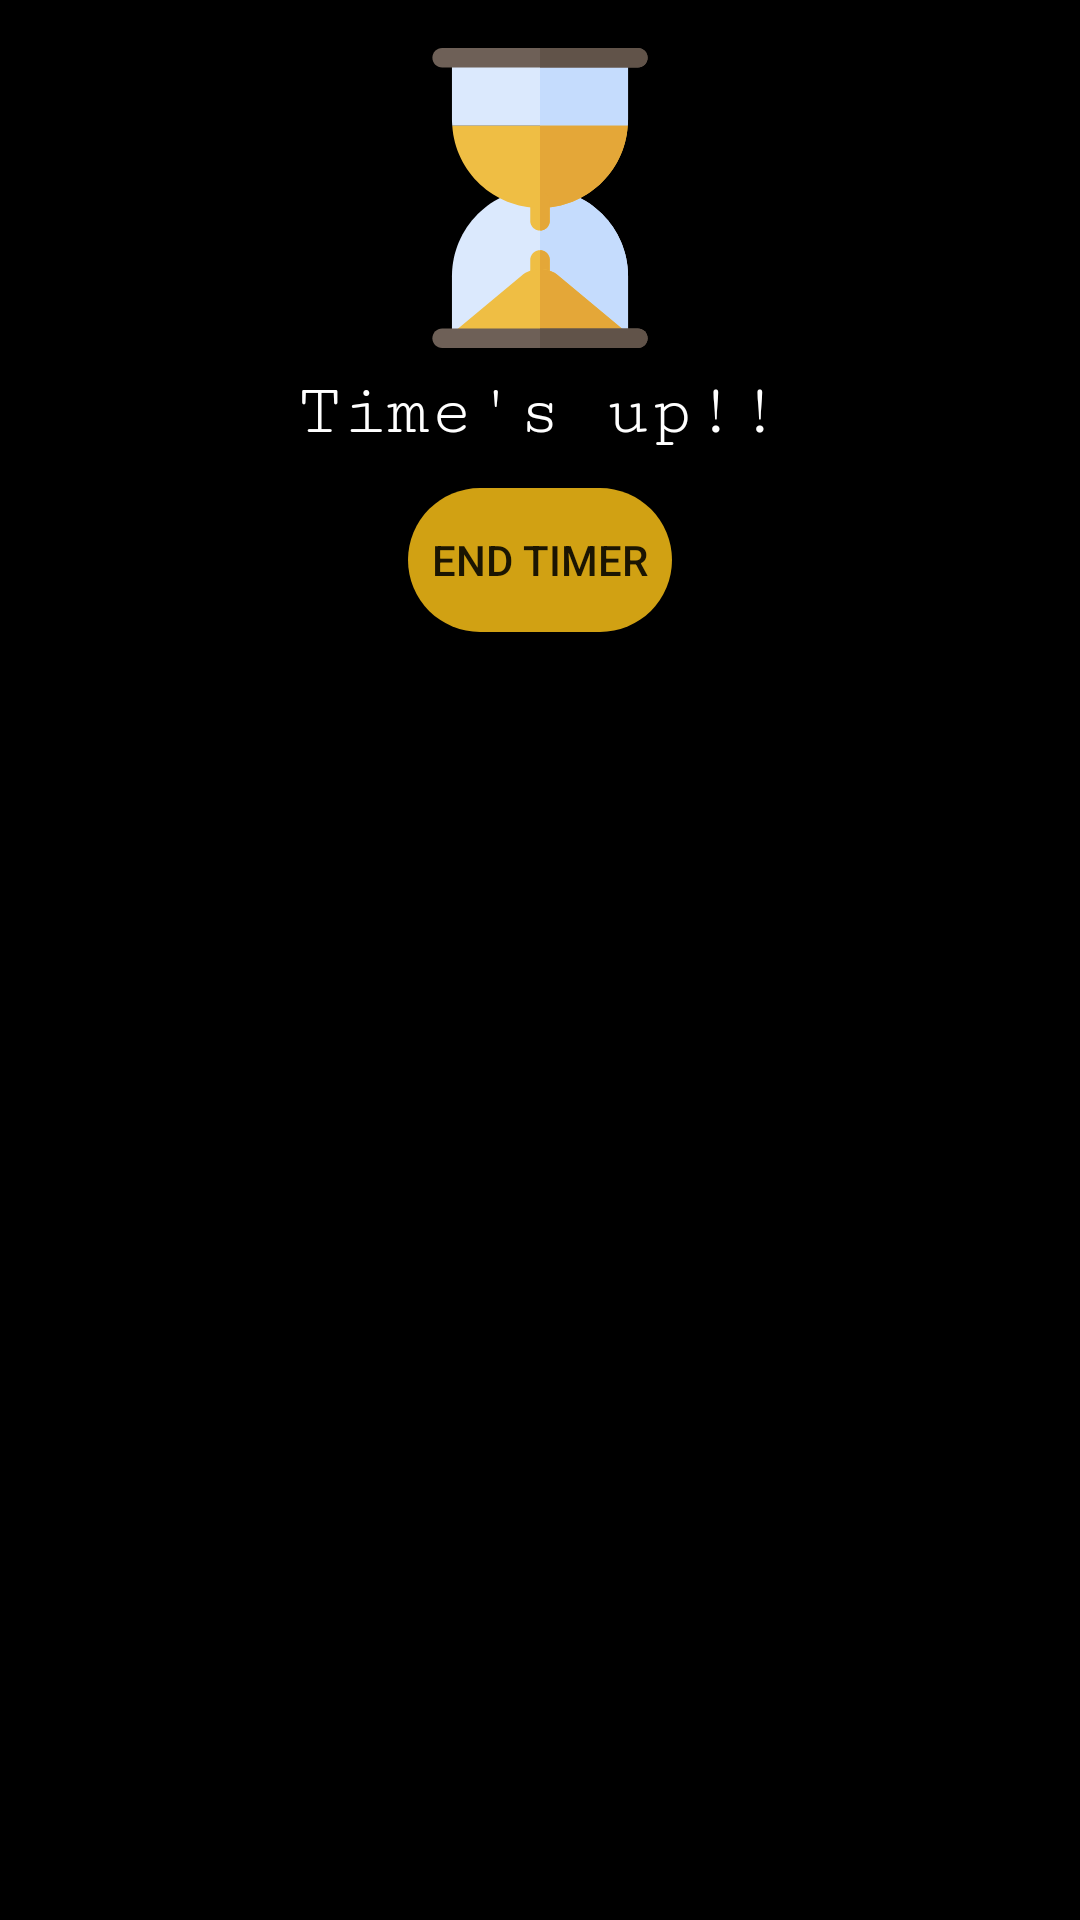

Named icons in this screenshot (1080w x 1920h) and their bounding boxes, [x1,y1,x2,y2]:
sand clock: [432,48,648,348]
